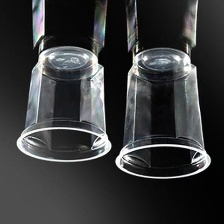glass: (113, 39, 214, 182), (12, 42, 116, 166)
